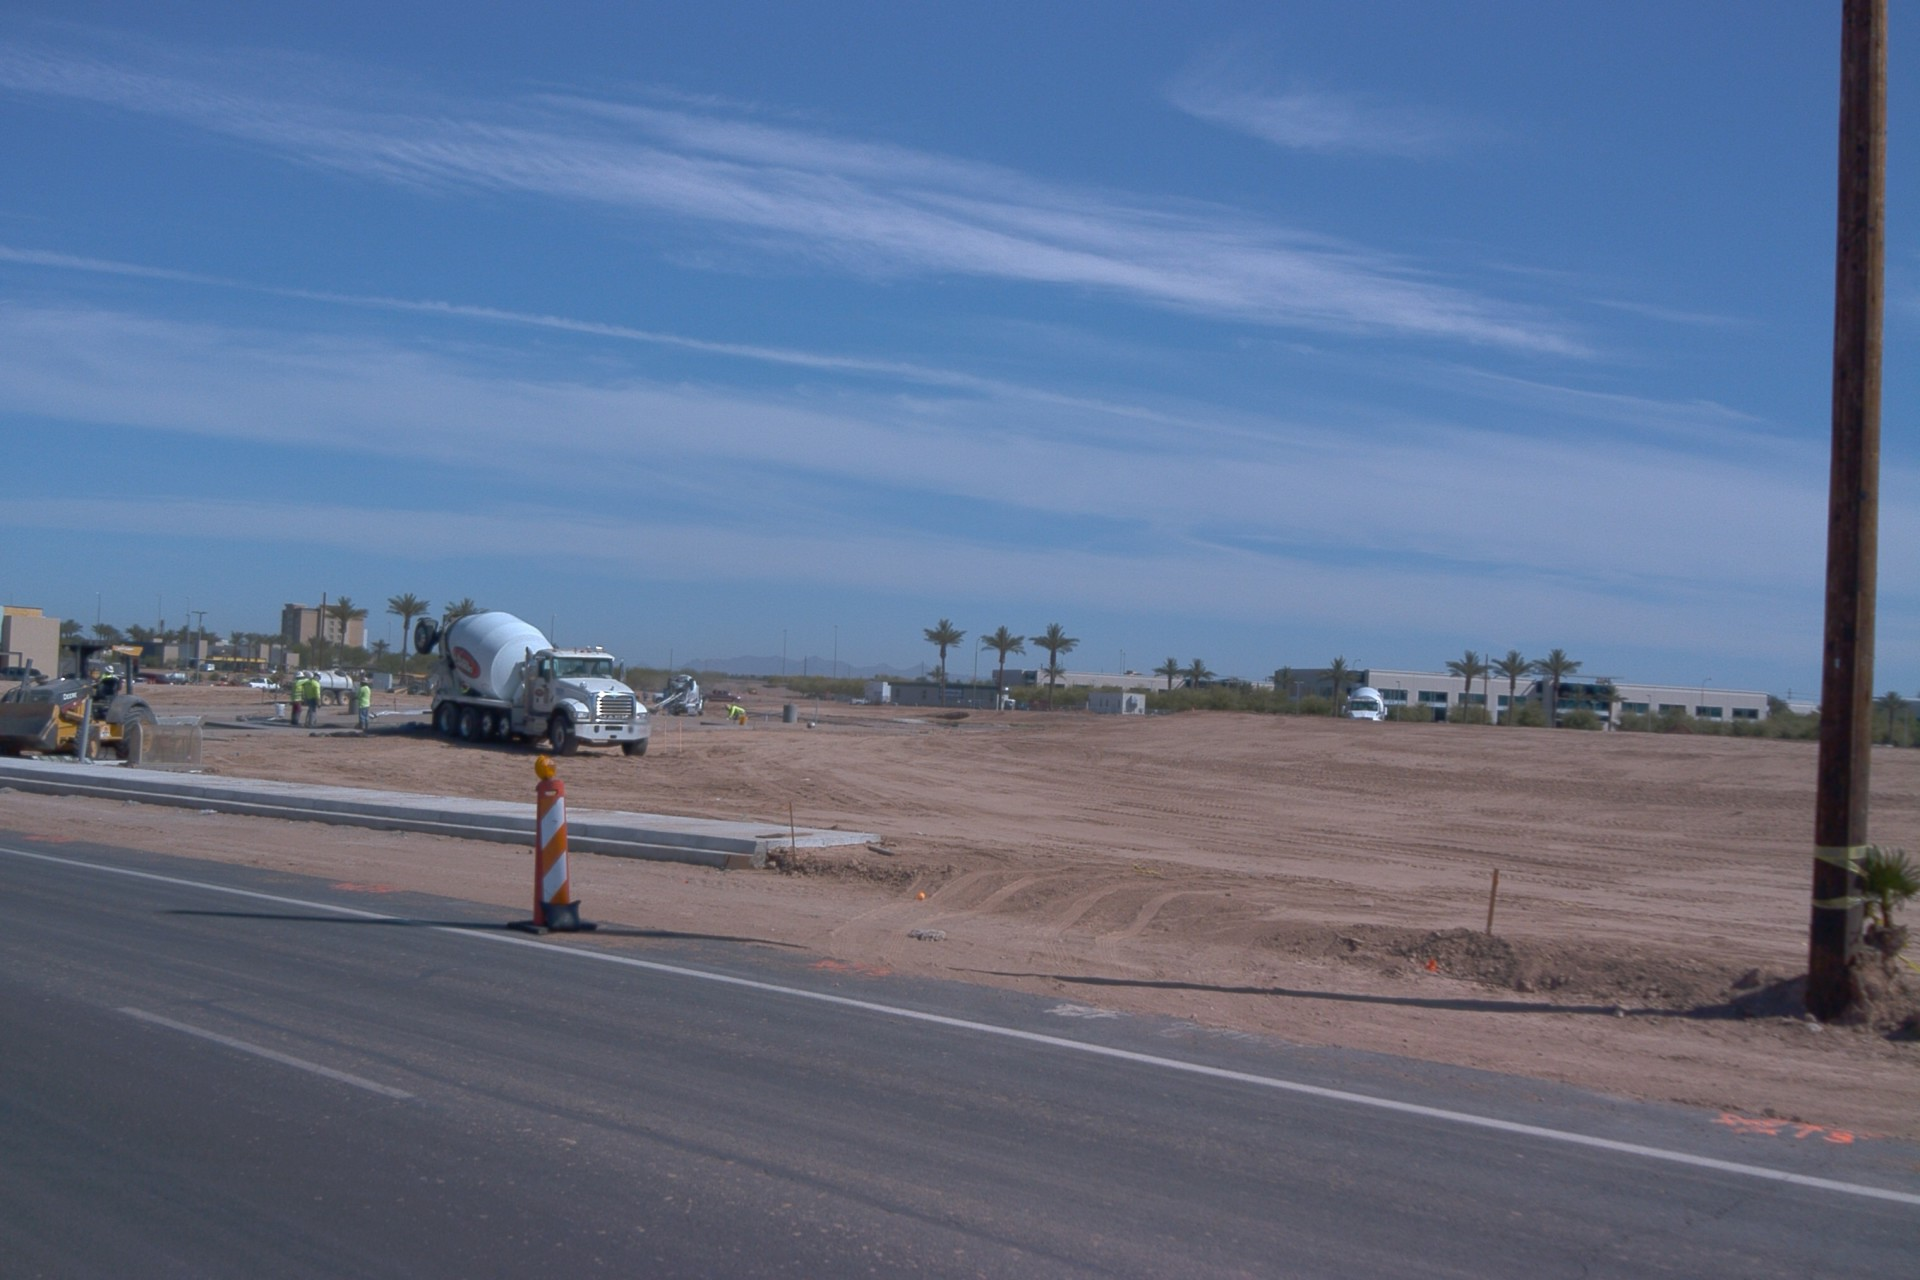TYPE_PEDESTRIAN: (288, 669, 310, 728), (348, 676, 370, 731), (302, 669, 322, 728), (98, 663, 119, 684), (725, 705, 746, 724), (641, 688, 650, 703)
TYPE_VEHICLE: (415, 614, 652, 762), (1, 634, 162, 763), (301, 665, 357, 710), (654, 675, 705, 722), (1338, 682, 1388, 723), (384, 674, 437, 697), (0, 662, 45, 685), (700, 688, 742, 704), (141, 674, 180, 687), (248, 677, 281, 691), (102, 677, 135, 686), (651, 693, 668, 704), (849, 698, 868, 706), (200, 664, 218, 671)
